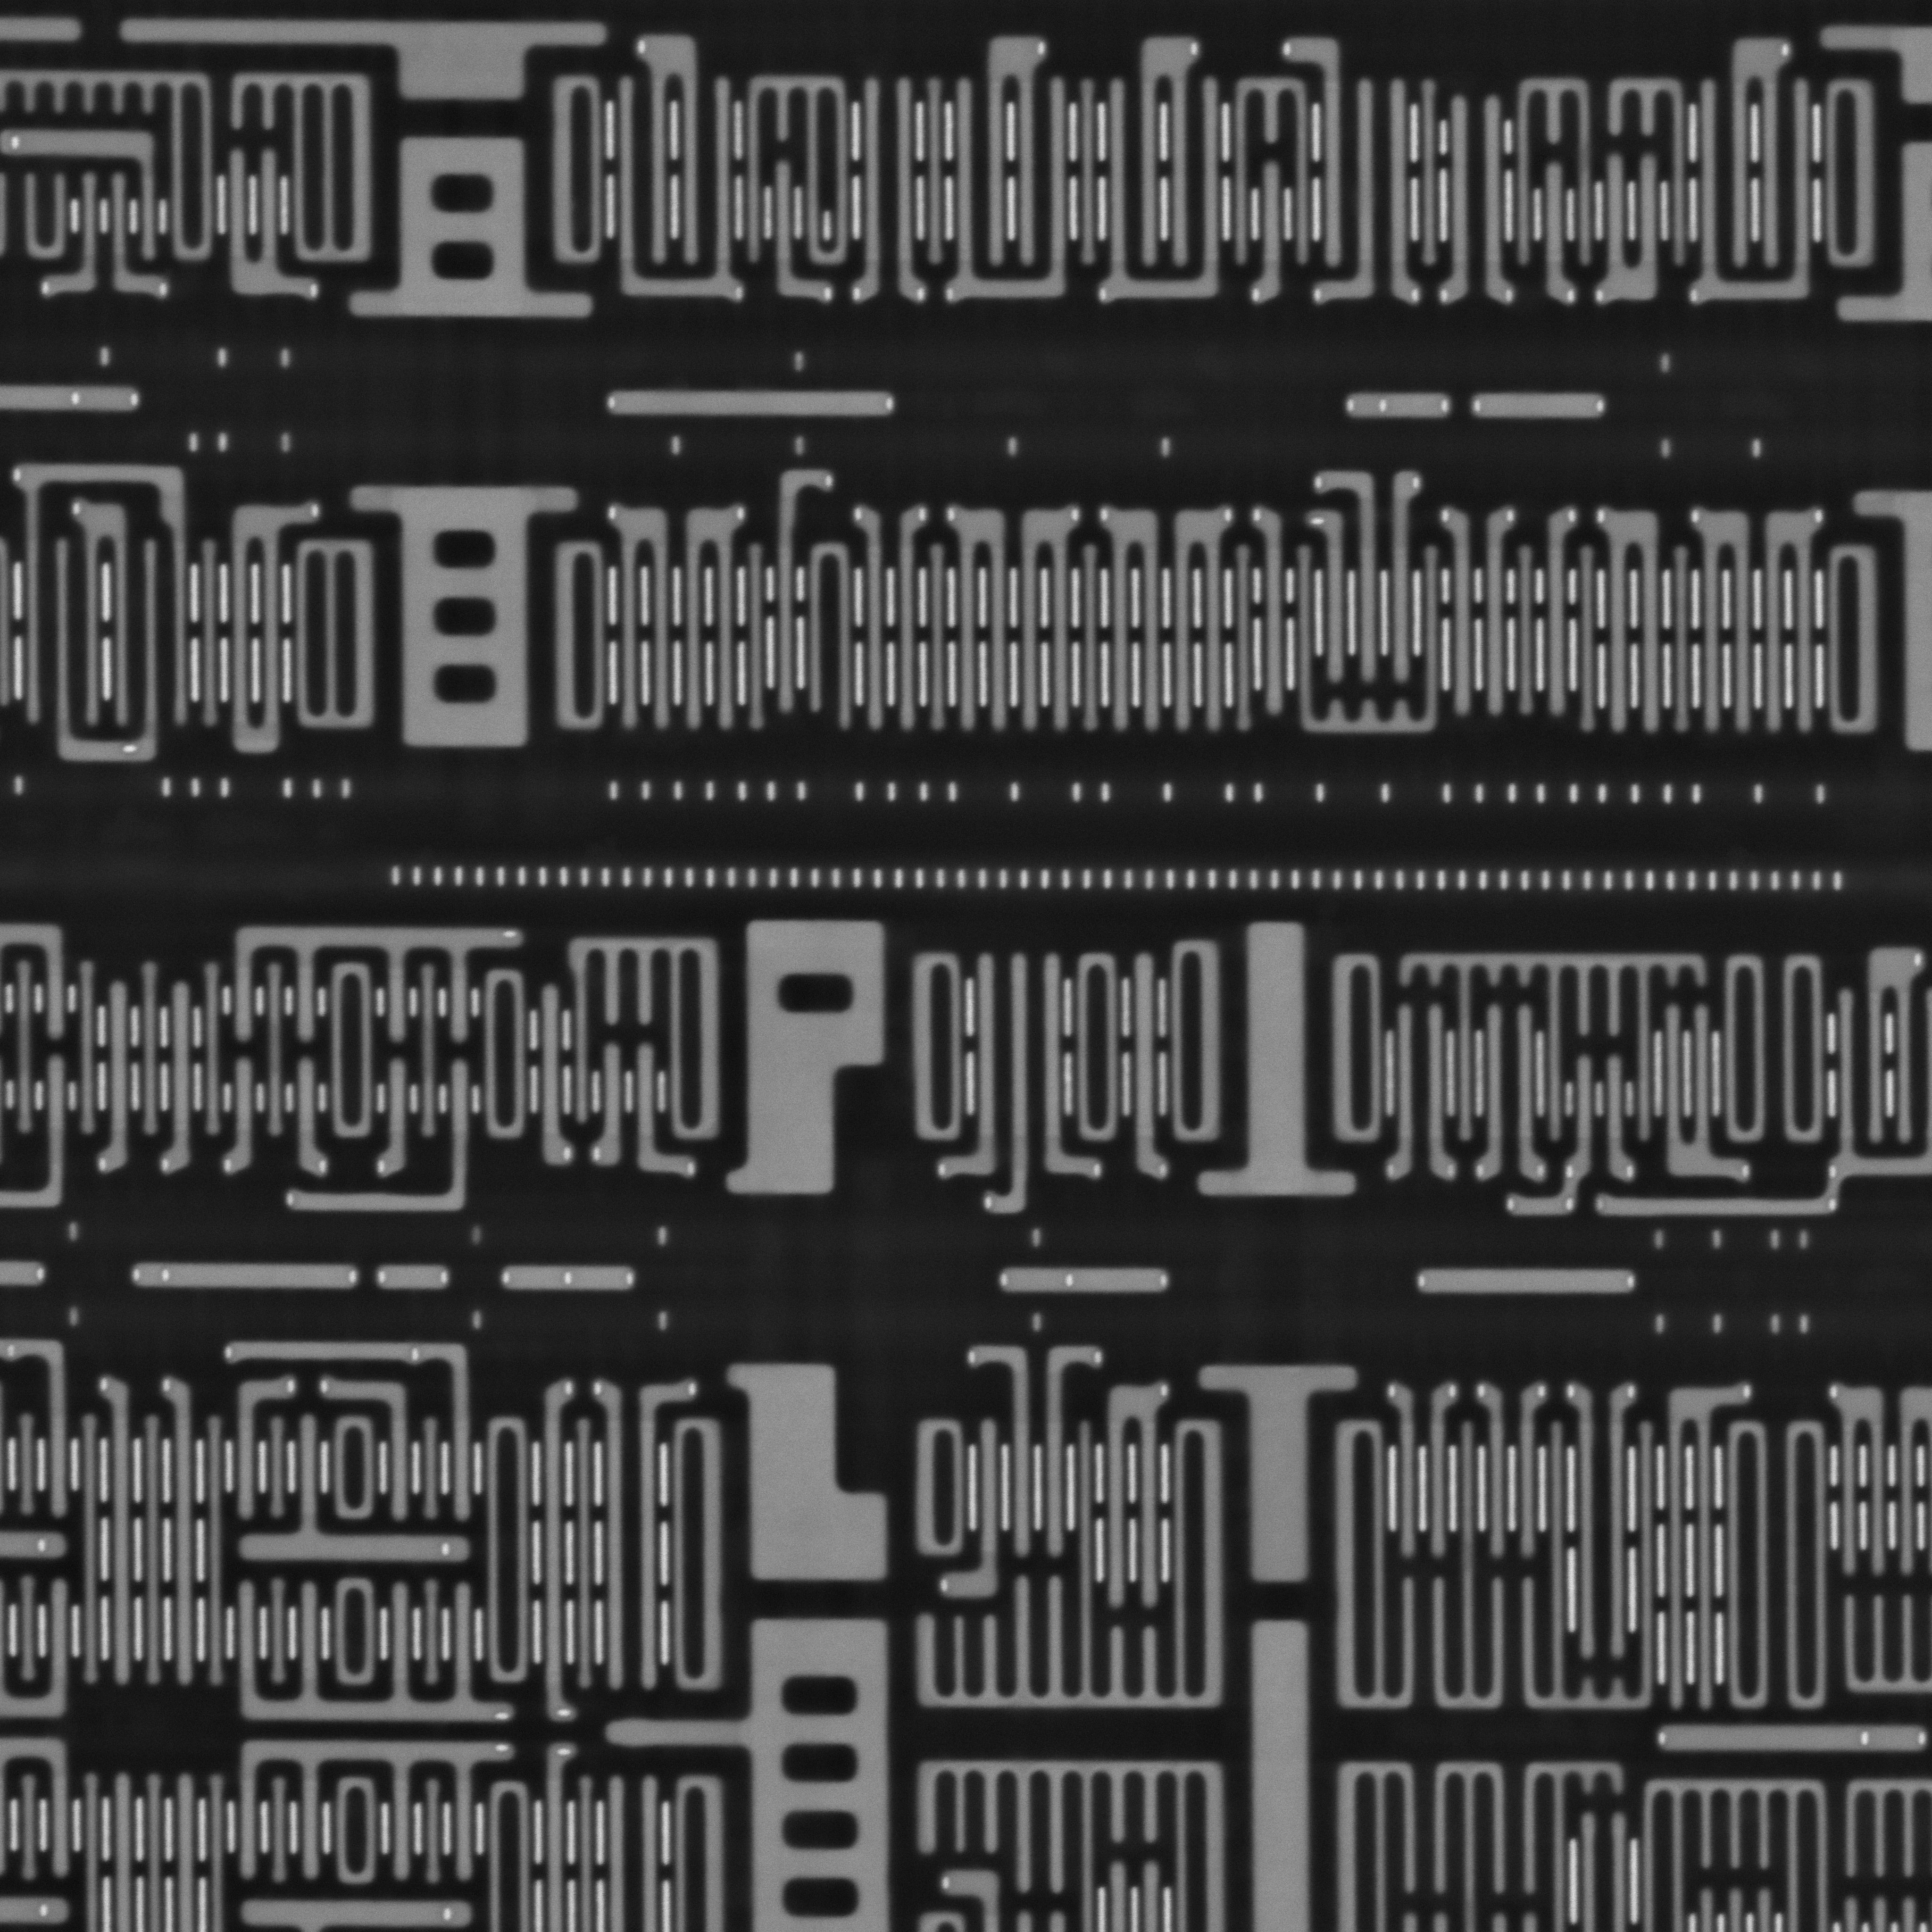doubleGate: (218, 499, 329, 757), (1656, 1384, 1743, 1709), (1656, 1003, 1757, 1191), (943, 506, 1021, 740), (1752, 504, 1829, 738), (1093, 1378, 1173, 1606), (607, 501, 683, 738), (1008, 506, 1085, 741), (1594, 510, 1675, 729), (1093, 508, 1169, 738), (676, 501, 747, 743), (212, 145, 322, 301), (1162, 506, 1233, 747), (1690, 506, 1764, 732), (1824, 1380, 1902, 1585), (1591, 143, 1672, 310)
insideDummy: (347, 481, 575, 754), (1196, 918, 1364, 1212), (732, 913, 890, 1214), (361, 133, 602, 327), (752, 1621, 893, 1932), (727, 1362, 901, 1585), (1201, 1362, 1361, 1589)
multiGate: (223, 1578, 520, 1721), (225, 1737, 499, 1884), (223, 924, 524, 1044)
publicGate: (12, 465, 203, 766), (939, 947, 1106, 1214), (1684, 34, 1824, 315), (609, 25, 747, 310), (943, 32, 1077, 324), (1283, 34, 1426, 304), (584, 1376, 701, 1693), (1100, 32, 1231, 313), (1826, 936, 1932, 1187), (1564, 1384, 1640, 1658), (849, 76, 934, 304), (1440, 83, 1520, 311), (1474, 1001, 1553, 1185), (1389, 1000, 1465, 1189)
resistor: (596, 386, 913, 423), (1658, 1721, 1930, 1750), (1468, 391, 1614, 425), (1343, 395, 1453, 419)
singleGate: (1307, 471, 1396, 685), (763, 456, 832, 718), (964, 1345, 1046, 1562), (90, 1373, 145, 1690), (1028, 1345, 1104, 1562), (534, 1378, 582, 1723), (315, 1380, 423, 1530), (410, 1334, 487, 1532), (161, 1375, 205, 1691), (1120, 943, 1175, 1182), (941, 1419, 1010, 1605), (847, 504, 899, 732), (216, 1378, 297, 1522), (1247, 508, 1299, 732), (1375, 471, 1428, 669), (1438, 510, 1488, 720), (886, 508, 932, 734), (761, 159, 833, 301), (1306, 504, 1362, 683), (154, 984, 207, 1173), (626, 1040, 694, 1180), (1380, 1378, 1430, 1568), (97, 170, 170, 297), (1470, 1385, 1522, 1560), (1477, 508, 1518, 720), (92, 980, 136, 1175), (1536, 506, 1575, 724), (41, 170, 111, 288), (531, 984, 575, 1166), (1530, 157, 1582, 308), (1419, 1380, 1460, 1569), (1242, 163, 1293, 308), (1509, 1387, 1550, 1550), (1594, 1047, 1640, 1187), (587, 1039, 635, 1168), (283, 1056, 333, 1177), (377, 1056, 419, 1182), (223, 1056, 265, 1178), (1564, 1053, 1605, 1178)
